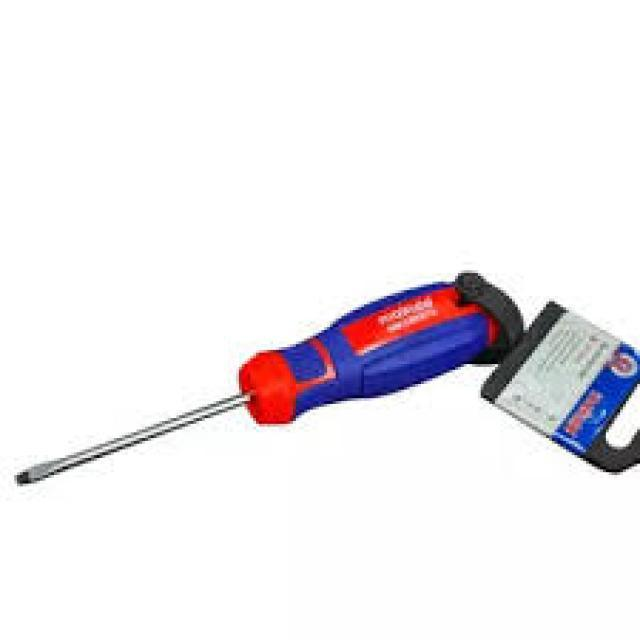screwdriver: (12, 258, 514, 490)
